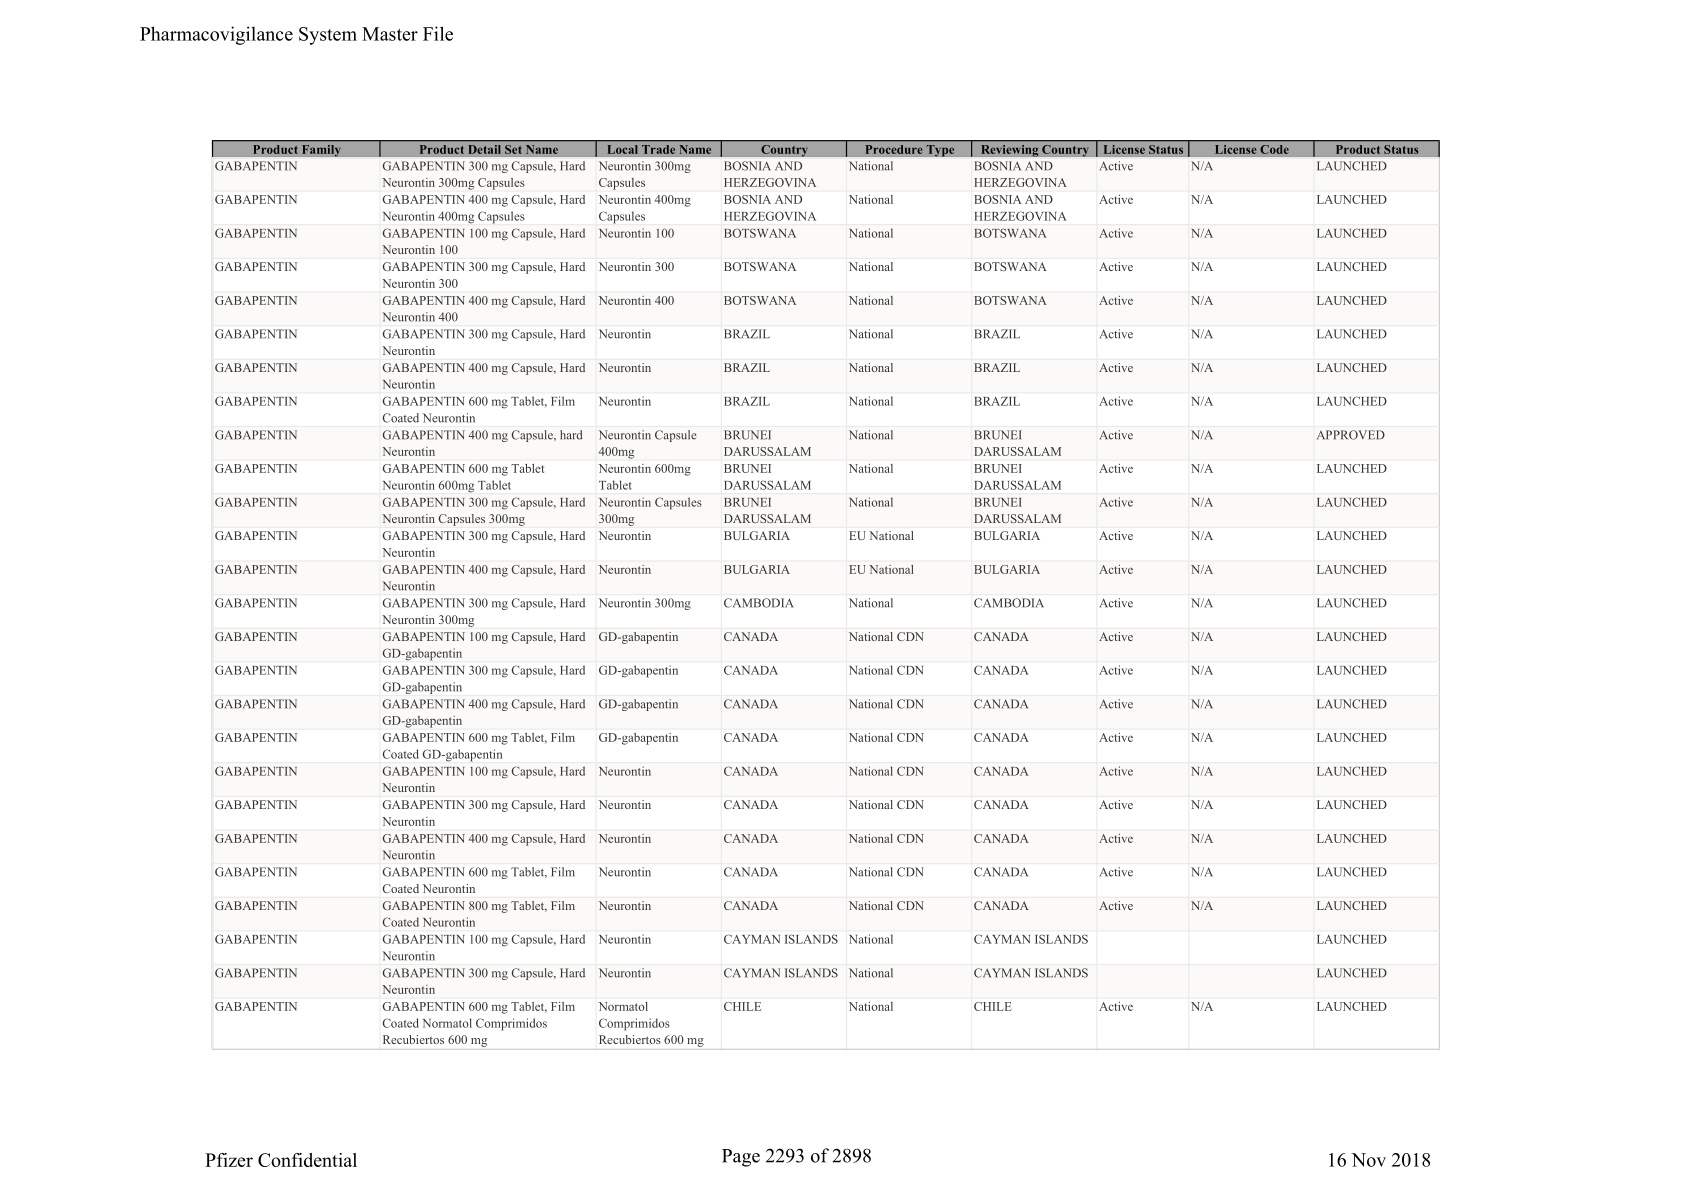full_lined: (211, 138, 1440, 1051)
